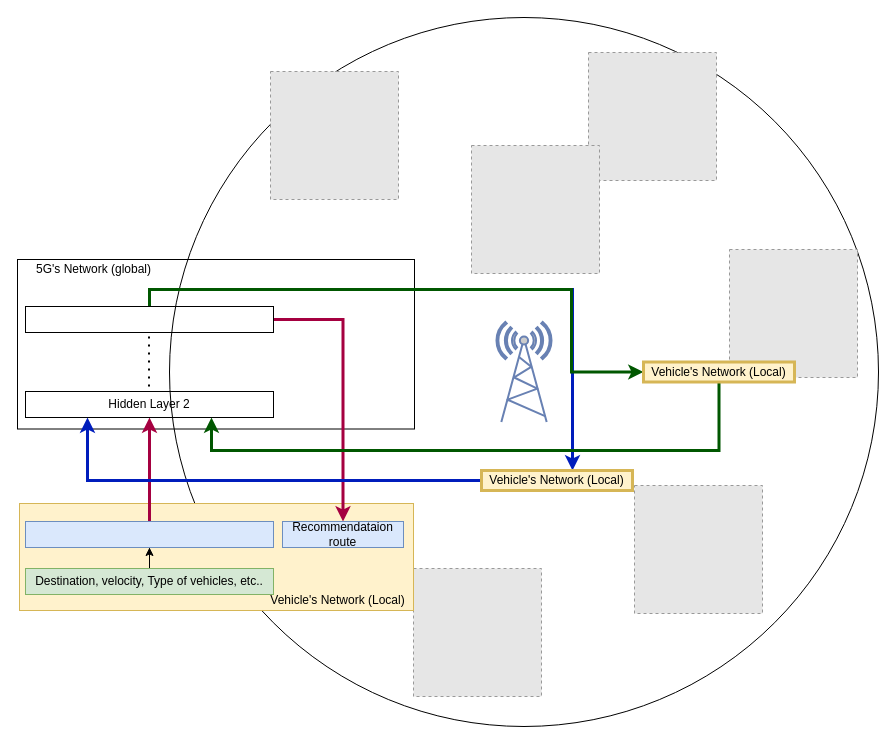
Image size: 896x744. Some labels were removed from this diagram. Grey dashed boxes stand in for pictures. Here are the shapes that lost their labels. From the top down, the centre of each, then its label:
[149,319]: Hidden Layer K
[149,534]: Hidden Layer 1
